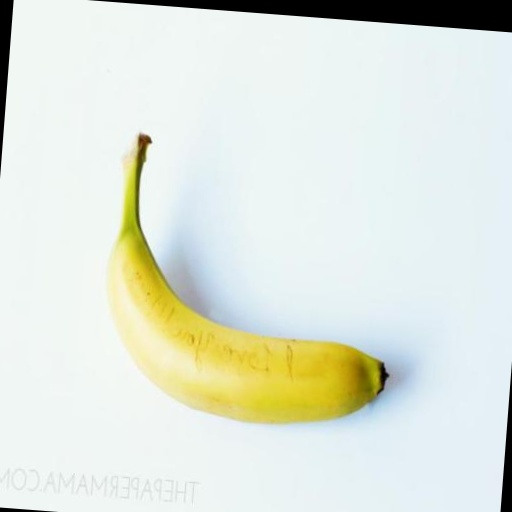fruit: (107, 135, 387, 423)
